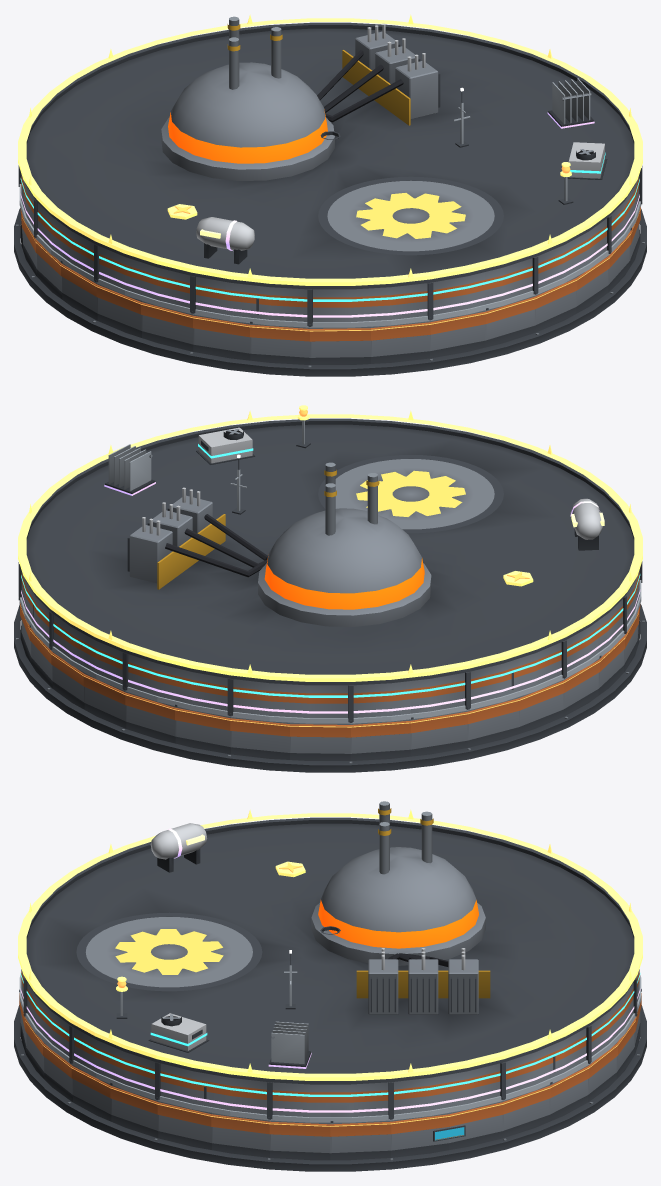
The model's file is titanium_smelter_l.glb.
3 renders of one model, top to bottom at view 1: azimuth 30°, elevation 25°; view 2: azimuth 150°, elevation 25°; view 3: azimuth 270°, elevation 25°, orthographic.
Parts seen in each view (by area): view 1: Roof, Base, L4, Wall_21, Wall_20, Wall_22, Wall_19, Wall_23, Wall_18, Wall_24, Upper_21, Upper_22 (+25 smaller); view 2: Roof, Base, L4, Wall_10, Wall_11, Wall_09, Wall_12, Wall_08, Wall_13, Wall_07, Upper_10, Upper_09 (+24 smaller); view 3: Roof, Base, L4, Wall_00, Wall_31, Wall_30, Wall_29, Wall_01, Upper_00, Wall_02, Upper_31, Wall_28 (+26 smaller).
Boxes of the visible parts, bbox=[...] form: Roof: bbox=[25, 16, 635, 289]; Base: bbox=[14, 208, 646, 376]; L4: bbox=[196, 78, 594, 264]; Wall_21: bbox=[310, 326, 370, 364]; Wall_20: bbox=[250, 321, 310, 364]; Wall_22: bbox=[371, 321, 430, 363]; Wall_19: bbox=[192, 314, 250, 360]; Wall_23: bbox=[430, 310, 485, 358]; Wall_18: bbox=[141, 301, 193, 351]; Wall_24: bbox=[485, 296, 535, 347]; Upper_21: bbox=[310, 288, 370, 326]; Upper_22: bbox=[371, 283, 430, 320]; Roof: bbox=[25, 418, 635, 685]; Base: bbox=[14, 604, 646, 772]; L4: bbox=[104, 444, 604, 550]; Wall_10: bbox=[290, 722, 350, 760]; Wall_11: bbox=[350, 719, 410, 760]; Wall_09: bbox=[230, 717, 289, 759]; Wall_12: bbox=[410, 710, 468, 756]; Wall_08: bbox=[175, 704, 230, 754]; Wall_13: bbox=[467, 697, 519, 747]; Wall_07: bbox=[125, 692, 175, 743]; Upper_10: bbox=[290, 684, 350, 722]; Upper_09: bbox=[230, 679, 289, 716]; Roof: bbox=[25, 801, 635, 1084]; Base: bbox=[14, 1005, 646, 1171]; L4: bbox=[150, 823, 311, 1068]; Wall_00: bbox=[330, 1120, 391, 1160]; Wall_31: bbox=[269, 1120, 330, 1160]; Wall_30: bbox=[211, 1113, 269, 1157]; Wall_29: bbox=[157, 1101, 211, 1149]; Wall_01: bbox=[391, 1113, 449, 1157]; Upper_00: bbox=[330, 1082, 391, 1118]; Wall_02: bbox=[449, 1101, 503, 1149]; Upper_31: bbox=[269, 1082, 330, 1118]; Wall_28: bbox=[110, 1082, 158, 1138].
Bounding box in the file's own units: 18.96 × 6.63 × 18.96.
